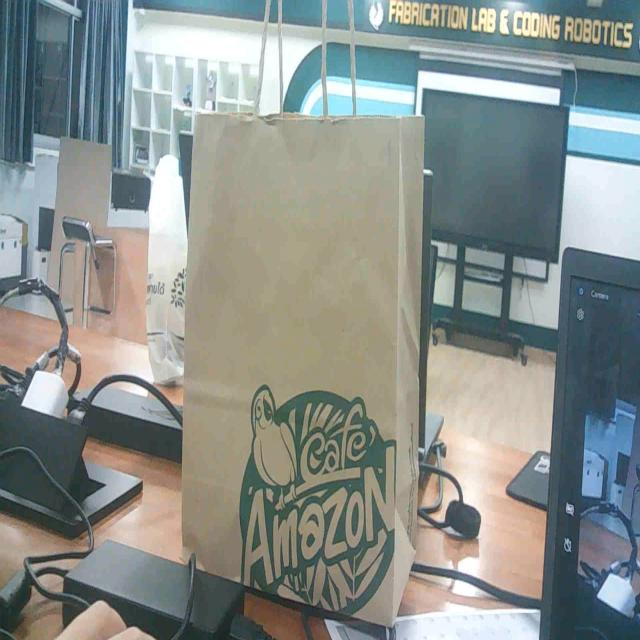bag: (172, 80, 440, 627)
